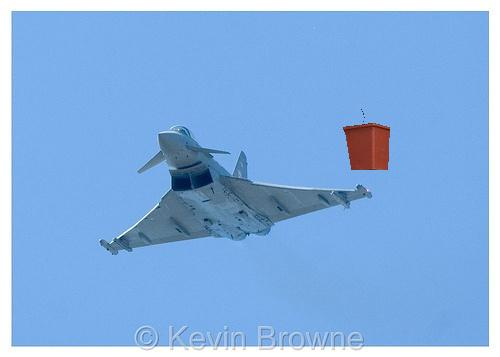tampered: (344, 110, 390, 170)
